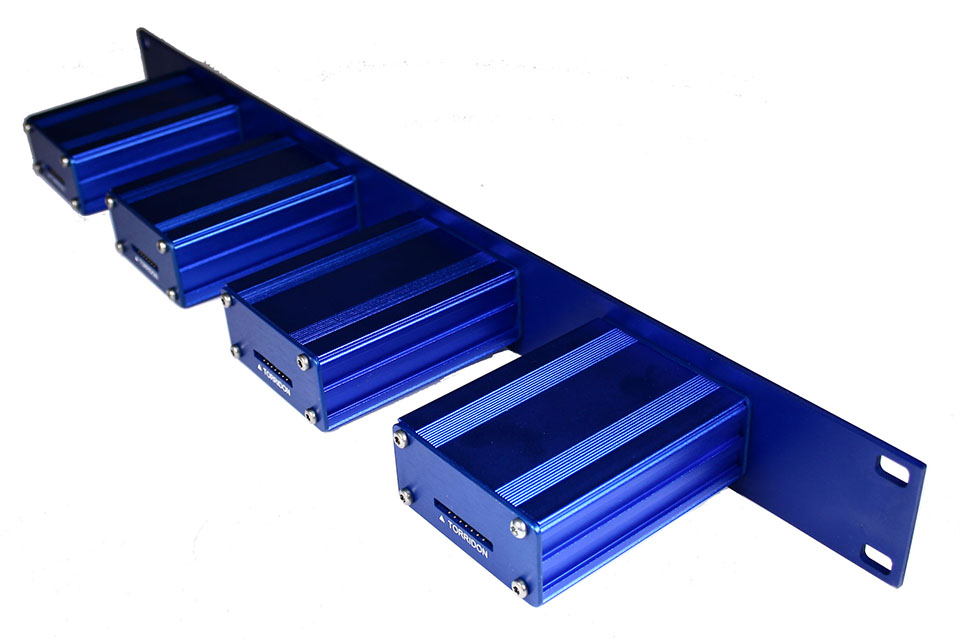Nonrec_Tangler: (12, 29, 943, 623)
